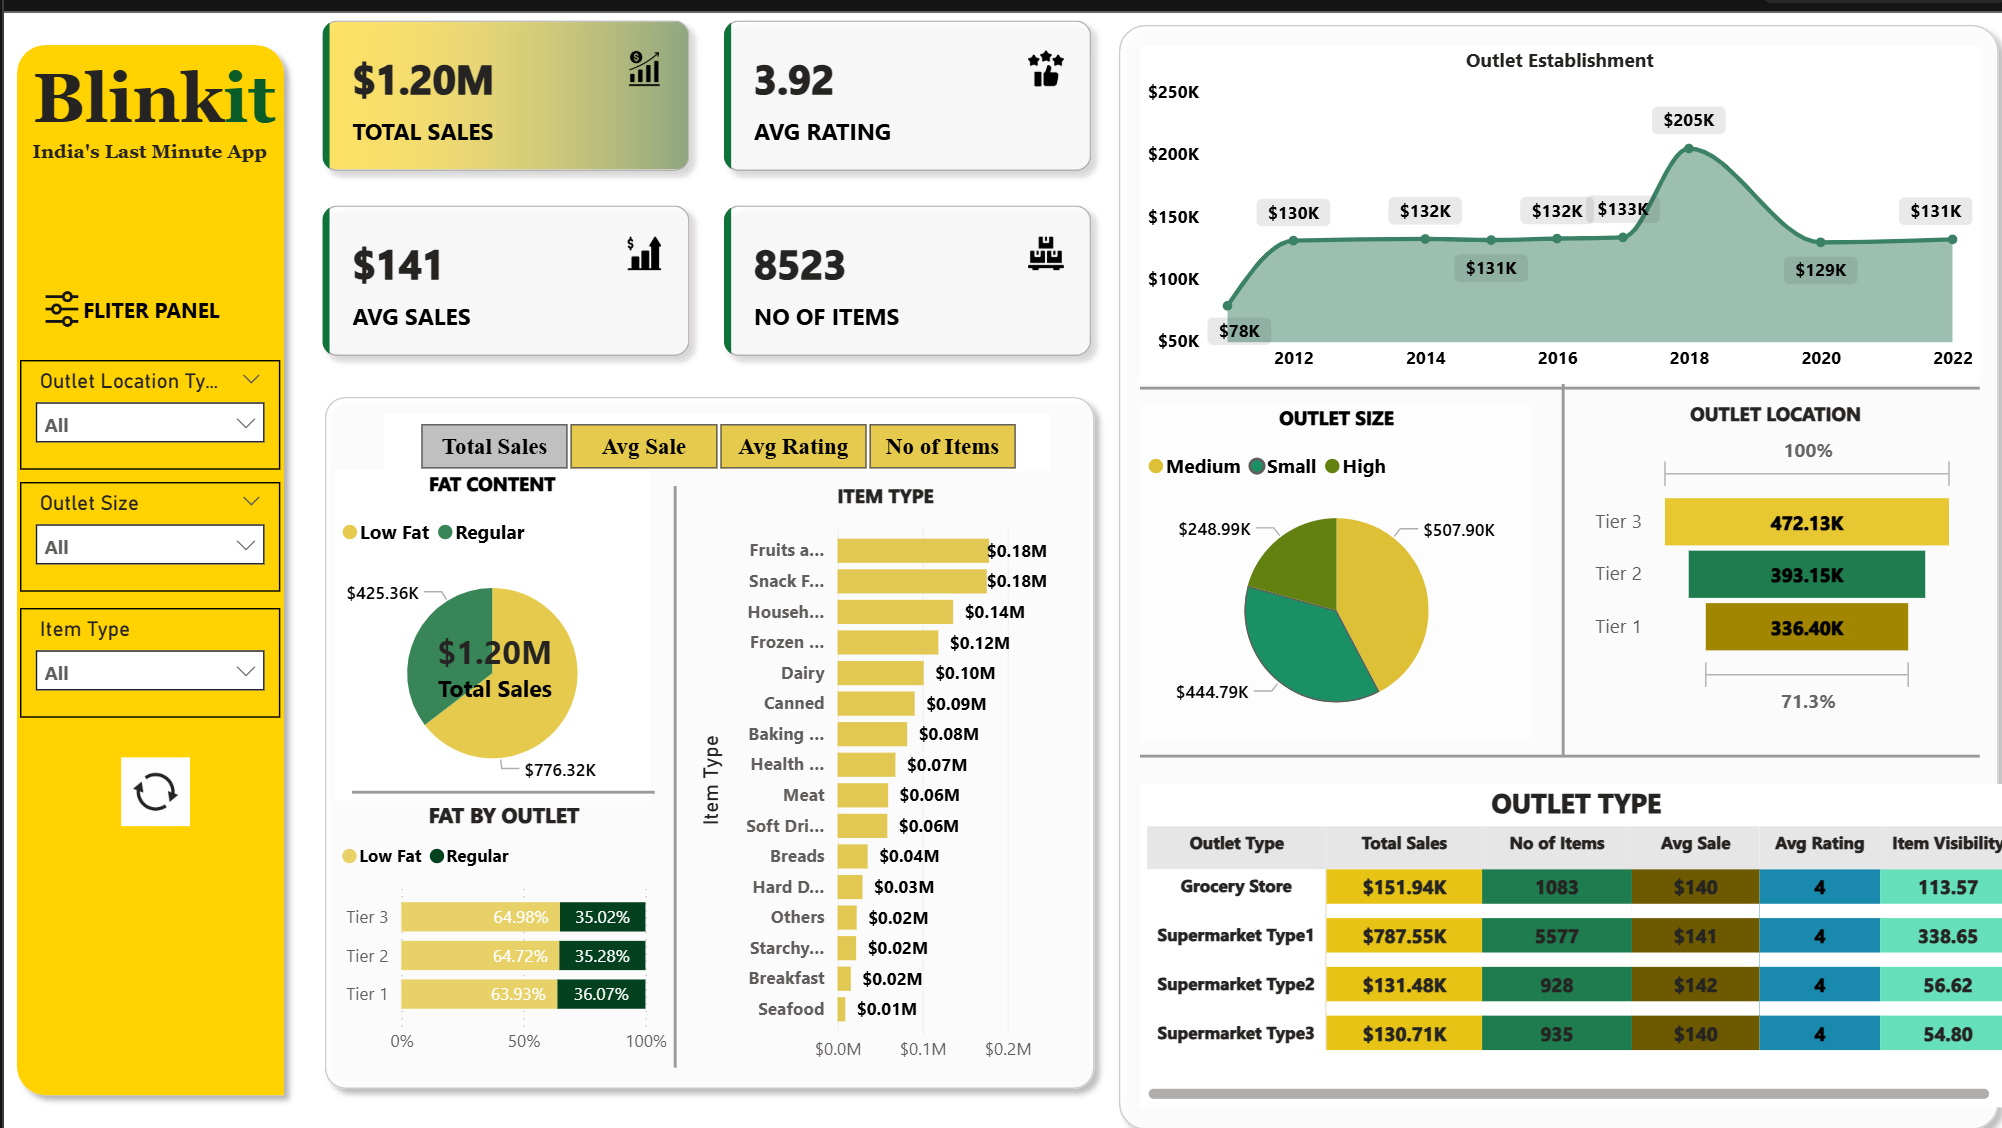

This screenshot's page, from the dashboard's own definition file:
{"tool":"powerbi","page":{"name":"Page 1","canvas":[1400,800],"ordinal":0},"visuals":[{"type":"shape","box":[0,25.1,204.3,750.2],"z":0},{"type":"textbox","box":[0,38.5,209.3,70.3],"z":1000},{"type":"textbox","box":[11.7,93.8,180.9,28.5],"z":2000},{"type":"cardVisual","fields":{"Data":["BlinkIT Grocery Data.Total Sales","BlinkIT Grocery Data.Avg Rating","BlinkIT Grocery Data.Avg Sale","BlinkIT Grocery Data.No of Items"]},"box":[204.4,0,570.8,269.9],"z":3000},{"type":"shape","box":[214.3,269.9,554.4,500.5],"z":4000},{"type":"pieChart","title":"FAT CONTENT","fields":{"Y":["BlinkIT Grocery Data.Total Sales"],"Category":["BlinkIT Grocery Data.Item Fat Content"]},"box":[230.6,330.4,220.8,230.6],"z":5000},{"type":"slicer","fields":{"Values":["Metrics.Metrics"]},"box":[265,291.1,464.5,39.3],"z":6000},{"type":"cardVisual","fields":{"Data":["BlinkIT Grocery Data.Total Sales"]},"box":[279.7,423.6,124.3,83.4],"z":7000},{"type":"hundredPercentStackedBarChart","title":"FAT BY OUTLET","fields":{"Y":["BlinkIT Grocery Data.Total Sales"],"Category":["BlinkIT Grocery Data.Outlet Location Type"],"Series":["BlinkIT Grocery Data.Item Fat Content"]},"box":[230.6,561,237.1,186.4],"z":8000},{"type":"shape","box":[358.2,341.8,219.2,405.6],"z":9000},{"type":"shape","box":[242.1,549.5,211,11.4],"z":10000},{"type":"clusteredBarChart","title":"ITEM TYPE","fields":{"Y":["BlinkIT Grocery Data.Total Sales"],"Category":["BlinkIT Grocery Data.Item Type"]},"box":[479.2,338.6,269.9,413.8],"z":11000},{"type":"shape","box":[768.7,11.4,631.3,788.3],"z":12000},{"type":"lineChart","title":" Outlet Establishment ","fields":{"Y":["BlinkIT Grocery Data.Total Sales"],"Category":["BlinkIT Grocery Data.Outlet Establishment Year"]},"box":[791.6,34.3,585.5,235.5],"z":13000},{"type":"shape","box":[791.6,253.5,585.5,39.3],"z":14000},{"type":"pieChart","title":"OUTLET SIZE","fields":{"Y":["BlinkIT Grocery Data.Total Sales"],"Category":["BlinkIT Grocery Data.Outlet Size"]},"box":[791.6,284.6,274,235],"z":15000},{"type":"shape","box":[978,269.9,219.2,260],"z":16000},{"type":"funnel","title":"OUTLET LOCATION","fields":{"Category":["BlinkIT Grocery Data.Outlet Location Type"],"Y":["Sum(BlinkIT Grocery Data.Sales)"]},"box":[1104,281.3,261.7,225],"z":17000},{"type":"shape","box":[791.6,510.3,585.5,39.3],"z":18000},{"type":"pivotTable","title":"OUTLET TYPE","fields":{"Rows":["BlinkIT Grocery Data.Outlet Type"],"Values":["BlinkIT Grocery Data.Total Sales","BlinkIT Grocery Data.No of Items","BlinkIT Grocery Data.Avg Sale","BlinkIT Grocery Data.Avg Rating","Sum(BlinkIT Grocery Data.Item Visibility)"]},"box":[791.6,549.5,608.4,225.7],"z":19000},{"type":"slicer","fields":{"Values":["BlinkIT Grocery Data.Outlet Location Type"]},"box":[11.2,253.8,181.3,76.7],"z":20000},{"type":"slicer","fields":{"Values":["BlinkIT Grocery Data.Outlet Size"]},"box":[11.2,338.8,181.3,76.7],"z":21000},{"type":"slicer","fields":{"Values":["BlinkIT Grocery Data.Item Type"]},"box":[11.2,426.7,181.3,76.7],"z":22000},{"type":"textbox","box":[50.2,203.6,107.4,34.9],"z":23000},{"type":"image","box":[11.2,198,58.6,40.4],"z":24000},{"type":"image","box":[76.5,523.9,57.8,61.2],"z":26000}]}

Visuals, with their boxes in screenshot pixels (x1, y1, x2, y2), scaled from the page's 1400x800 canvas onto the 2002x1128 screenshot:
shape: bbox=(0, 35, 292, 1093)
textbox: bbox=(0, 54, 299, 153)
textbox: bbox=(17, 132, 275, 172)
cardVisual - BlinkIT Grocery Data.Total Sales x BlinkIT Grocery Data.Avg Rating: bbox=(292, 0, 1109, 381)
shape: bbox=(306, 381, 1099, 1086)
"FAT CONTENT" pieChart: bbox=(330, 466, 646, 791)
slicer - Metrics.Metrics: bbox=(379, 410, 1043, 466)
cardVisual - BlinkIT Grocery Data.Total Sales: bbox=(400, 597, 578, 715)
"FAT BY OUTLET" hundredPercentStackedBarChart: bbox=(330, 791, 669, 1054)
shape: bbox=(512, 482, 826, 1054)
shape: bbox=(346, 775, 648, 791)
"ITEM TYPE" clusteredBarChart: bbox=(685, 477, 1071, 1061)
shape: bbox=(1099, 16, 2001, 1127)
" Outlet Establishment " lineChart: bbox=(1132, 48, 1969, 380)
shape: bbox=(1132, 357, 1969, 413)
"OUTLET SIZE" pieChart: bbox=(1132, 401, 1524, 733)
shape: bbox=(1399, 381, 1712, 747)
"OUTLET LOCATION" funnel: bbox=(1579, 397, 1953, 714)
shape: bbox=(1132, 720, 1969, 775)
"OUTLET TYPE" pivotTable: bbox=(1132, 775, 2001, 1093)
slicer - BlinkIT Grocery Data.Outlet Location Type: bbox=(16, 358, 275, 466)
slicer - BlinkIT Grocery Data.Outlet Size: bbox=(16, 478, 275, 586)
slicer - BlinkIT Grocery Data.Item Type: bbox=(16, 602, 275, 710)
textbox: bbox=(72, 287, 225, 336)
image: bbox=(16, 279, 100, 336)
image: bbox=(109, 739, 192, 825)
